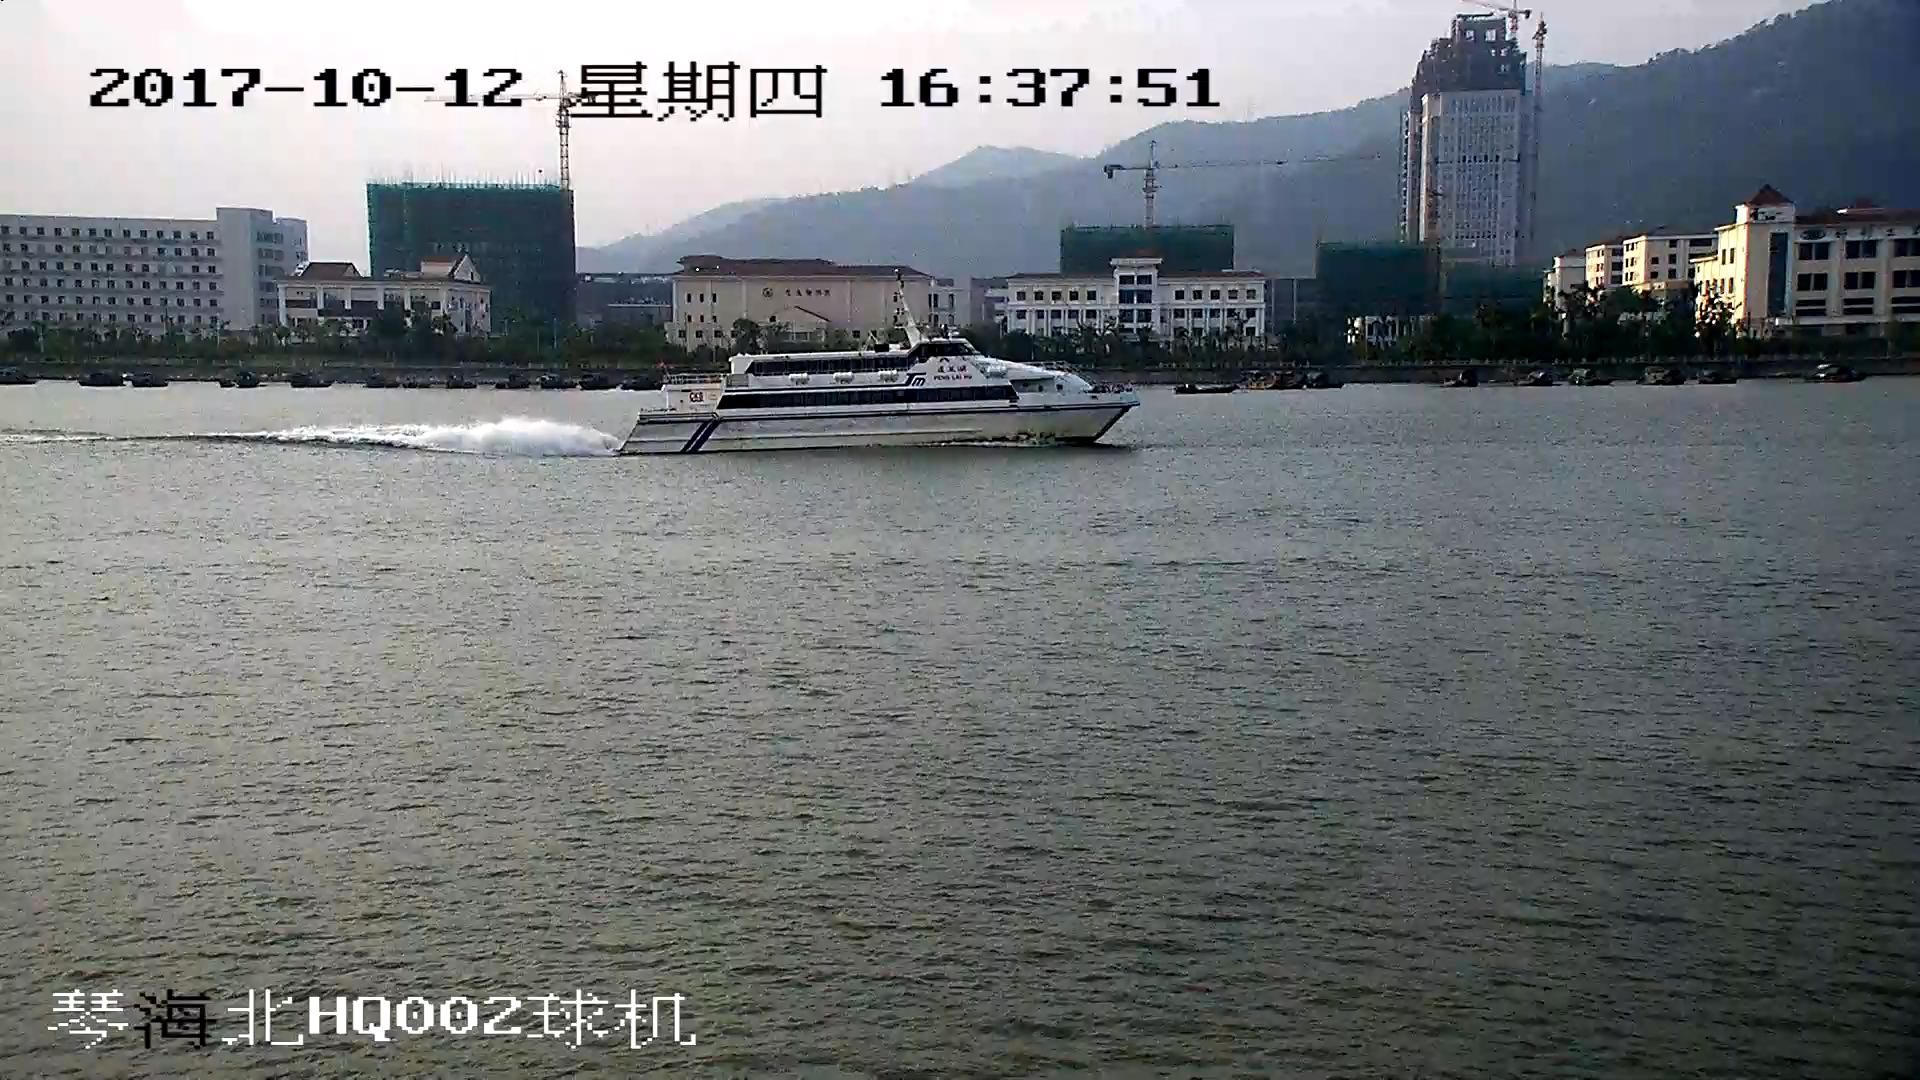passenger ship: (618, 280, 1140, 454)
